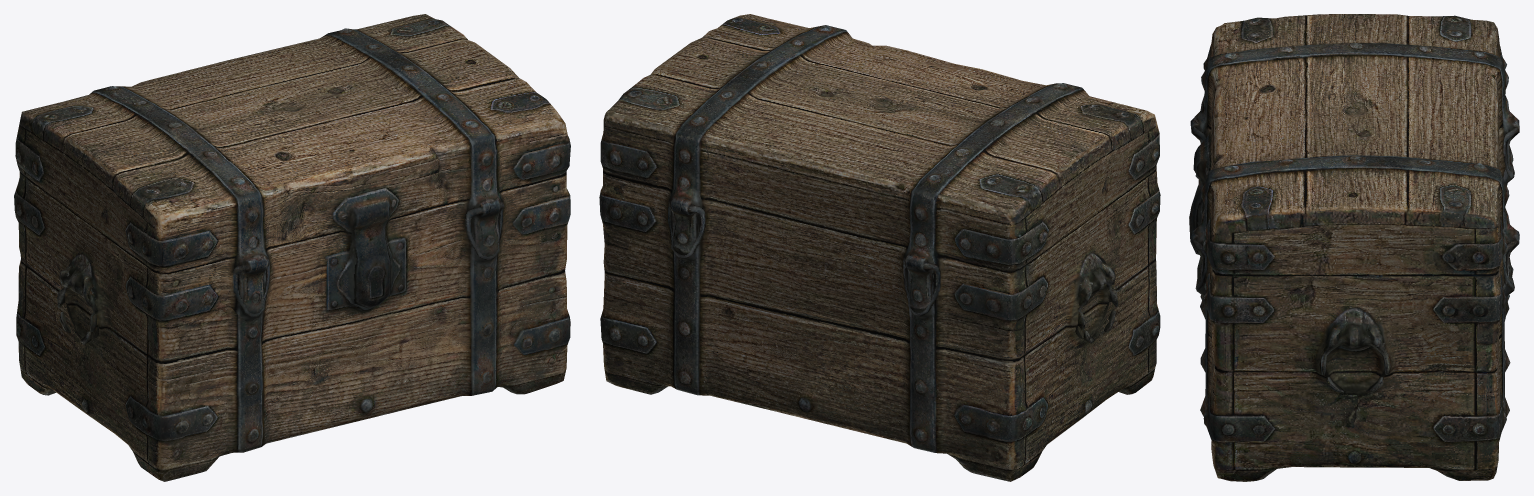
The model's file is strongbox.glb.
3 renders of one model, left to right at view 1: azimuth 30°, elevation 25°; view 2: azimuth 150°, elevation 25°; view 3: azimuth 270°, elevation 25°, orthographic. The views are drawn at different scales.
Parts seen in each view (by area): view 1: strongbox; view 2: strongbox; view 3: strongbox.
Boxes of the visible parts, x1,y1,x2,y2 form: strongbox: [14, 14, 570, 481]; strongbox: [599, 14, 1160, 481]; strongbox: [1189, 14, 1519, 481].
Bounding box in the file's own units: 0.9412 × 0.5788 × 0.6068.
Materials: 1 (1 with a texture image).
